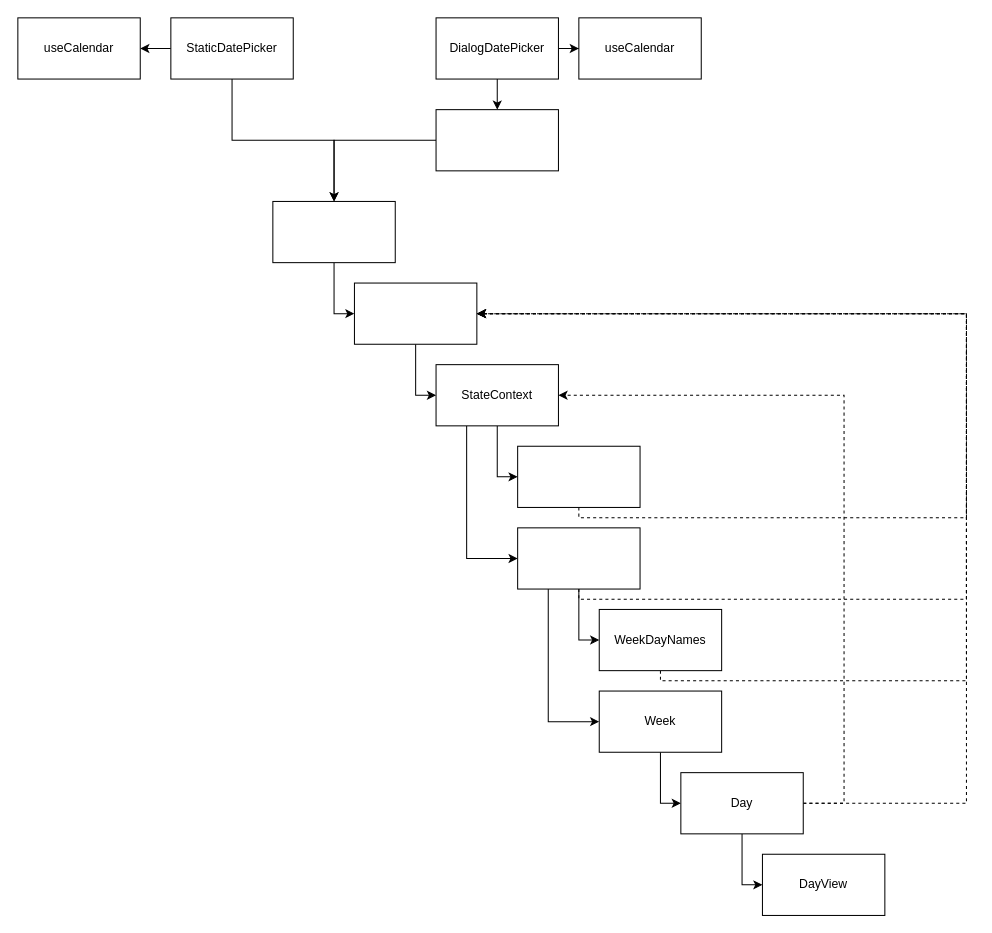
This 992x933 diagram has some shape labels left out. The box of each missing label's shape, as (x1, y1, x2, y2) in pixels:
Calendar: (272, 200, 395, 263)
Dialog: (435, 109, 558, 171)
Header: (517, 445, 640, 507)
Month: (517, 527, 640, 589)
SettingsContext: (353, 282, 477, 344)
